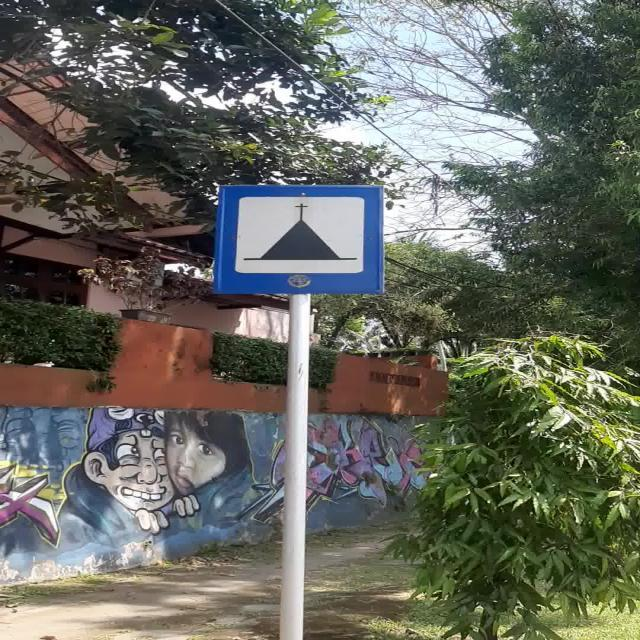Gereja: (212, 184, 384, 294)
